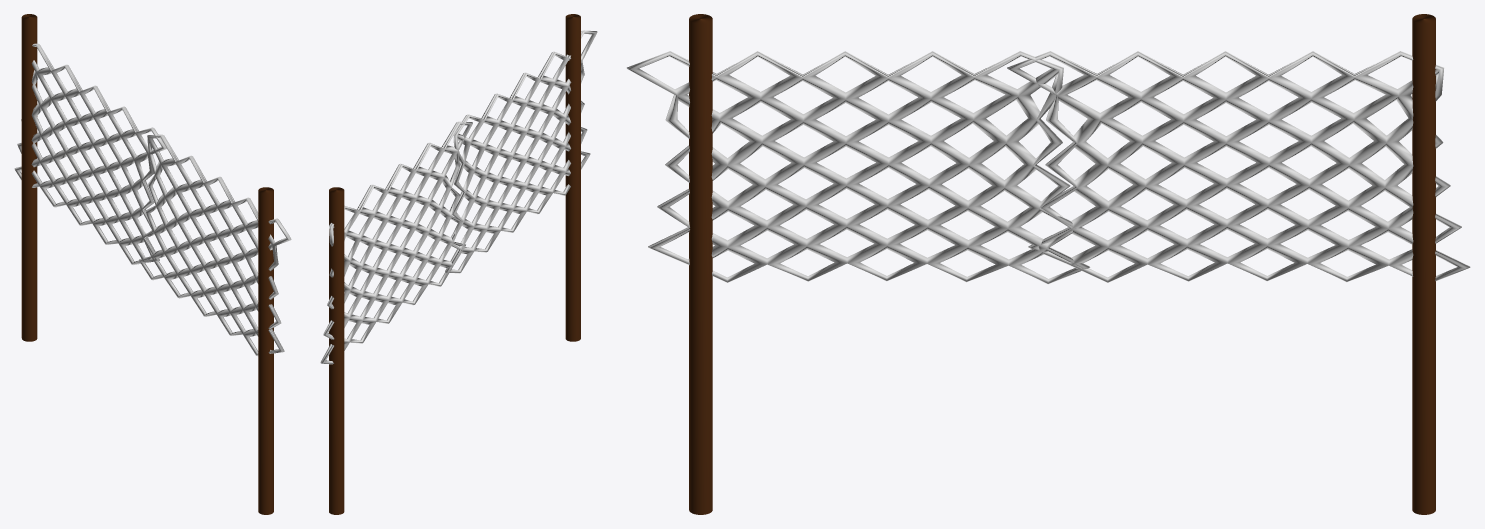
The model's file is NetObstacle.fbx.
3 renders of one model, left to right at view 1: azimuth 30°, elevation 25°; view 2: azimuth 150°, elevation 25°; view 3: azimuth 270°, elevation 25°, orthographic. The views are drawn at different scales.
Visible parts, largest first — view 1: Net, NetWood1, NetWood2; view 2: Net, NetWood1, NetWood2; view 3: Net, NetWood1, NetWood2.
Boxes of the visible parts, x1,y1,x2,y2 form: Net: (14, 43, 291, 356); NetWood1: (21, 14, 37, 341); NetWood2: (258, 187, 273, 514); Net: (320, 30, 597, 364); NetWood1: (329, 187, 344, 514); NetWood2: (565, 14, 580, 341); Net: (627, 51, 1470, 284); NetWood1: (1412, 14, 1435, 514); NetWood2: (689, 14, 712, 514).
Size of the model in its own units: 29.99 by 687 by 1071.
